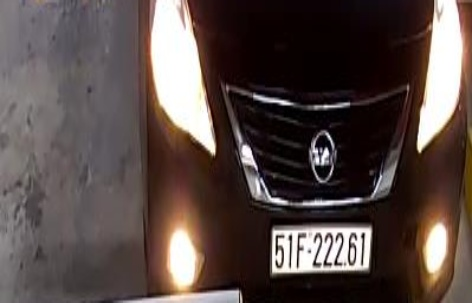plate: (266, 218, 370, 278)
